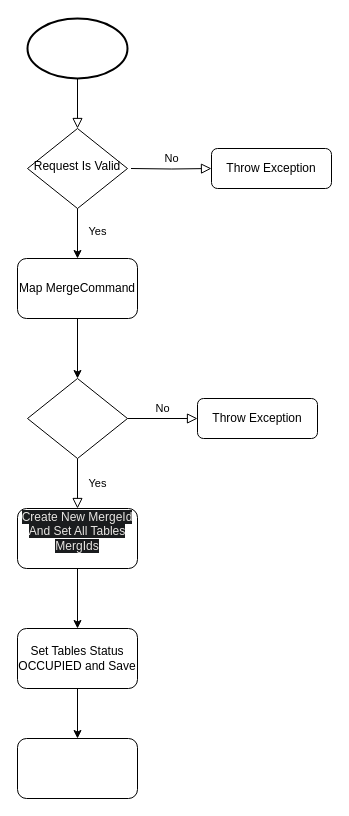
Image size: 349x816. Some labels were removed from this diagram. The shapes that lost their labels are listed below. From the top down, each one's centre as x and y in pixels, then its label:
[77,48]: MergeRequest
[77,418]: Tables Are Available?
[77,768]: END
